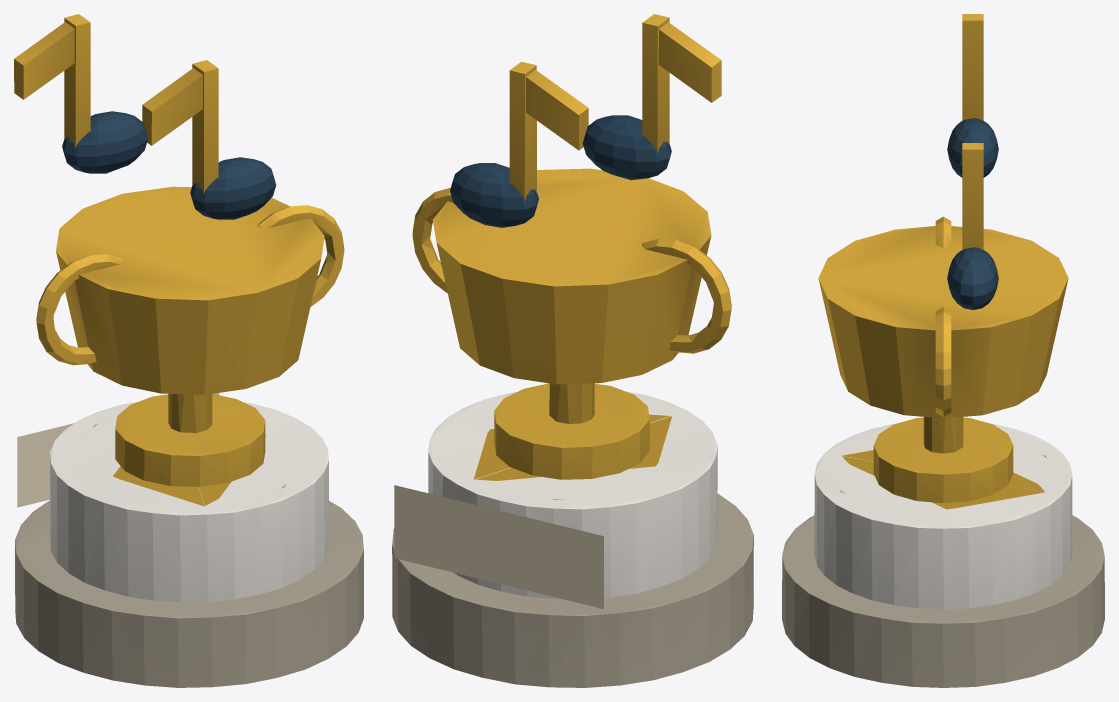
File: trophy_beat_low.glb
3 views of the same model, side by side, from view 1: azimuth 30°, elevation 25°; view 2: azimuth 150°, elevation 25°; view 3: azimuth 270°, elevation 25° (orthographic). The views are drawn at different scales.
Visible parts, largest first — view 1: symbol, common_pedestal, trophy_plate; view 2: symbol, common_pedestal, trophy_plate; view 3: common_pedestal, symbol.
Boxes of the visible parts, <box> form: symbol: <box>14,14,344,486</box>; common_pedestal: <box>15,401,363,687</box>; trophy_plate: <box>17,393,219,507</box>; symbol: <box>412,14,731,479</box>; common_pedestal: <box>392,391,753,687</box>; trophy_plate: <box>394,485,603,609</box>; common_pedestal: <box>782,423,1104,687</box>; symbol: <box>818,14,1068,503</box>.
Bounding box in the file's own units: 0.9182 × 1.72 × 0.8987.
